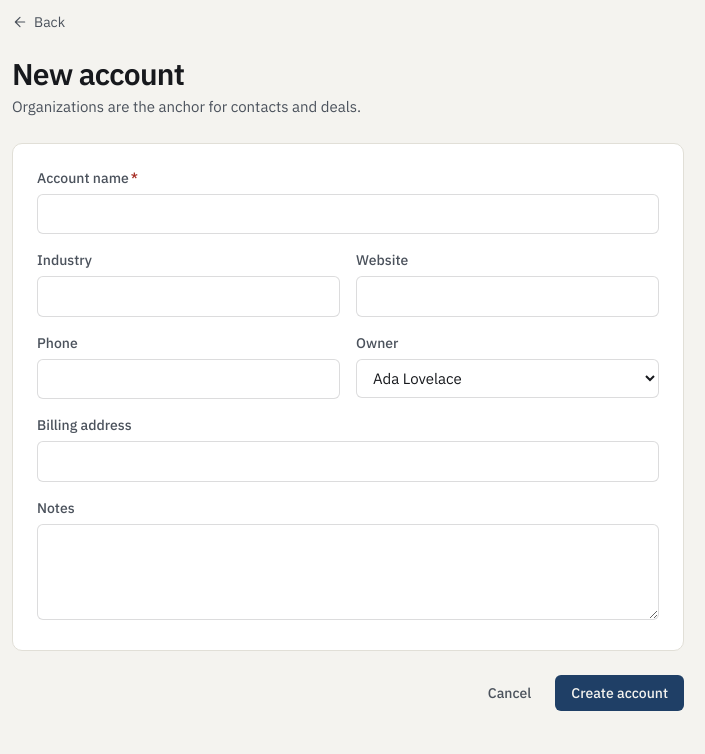
AccountFormPage › create mode › clears the field error once a valid name is submitted
Click the button "Create account".
click(620, 692)  # box [555, 674, 684, 710]
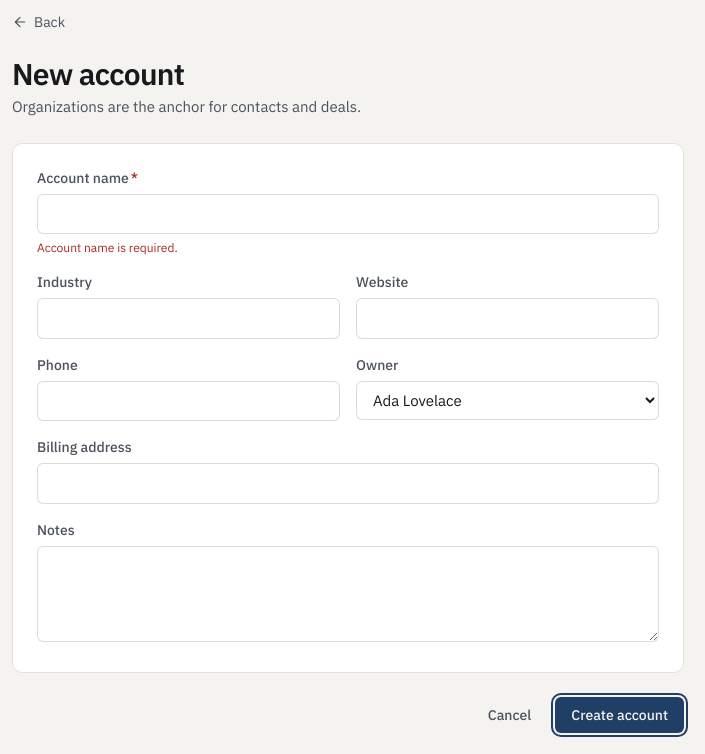
Expected: the text "Account name is required." is shown, [37, 240, 178, 255]
Type "Globex" into the field labelled "Account name*".
click(348, 214); type("Globex")  # box [37, 194, 659, 234]
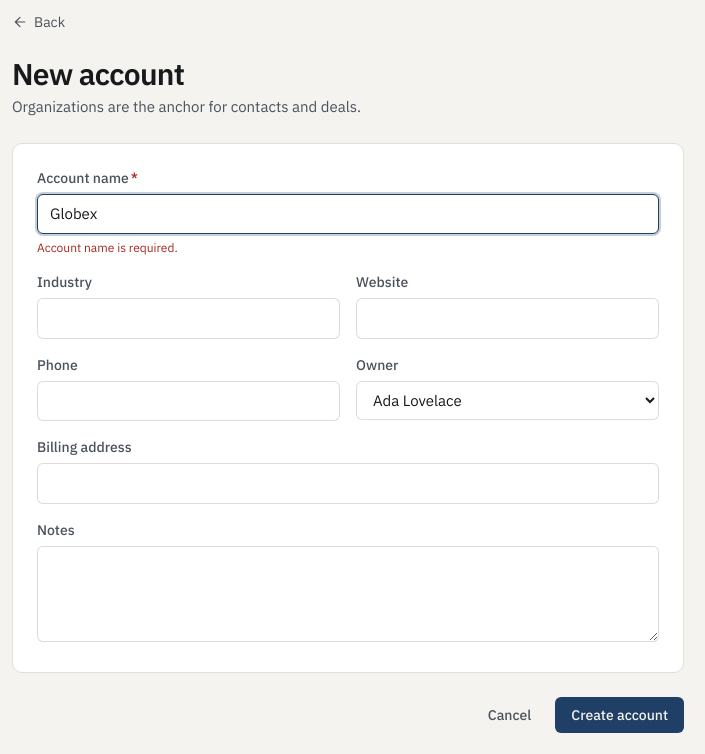
Click the button "Create account".
click(620, 714)  # box [555, 696, 684, 732]
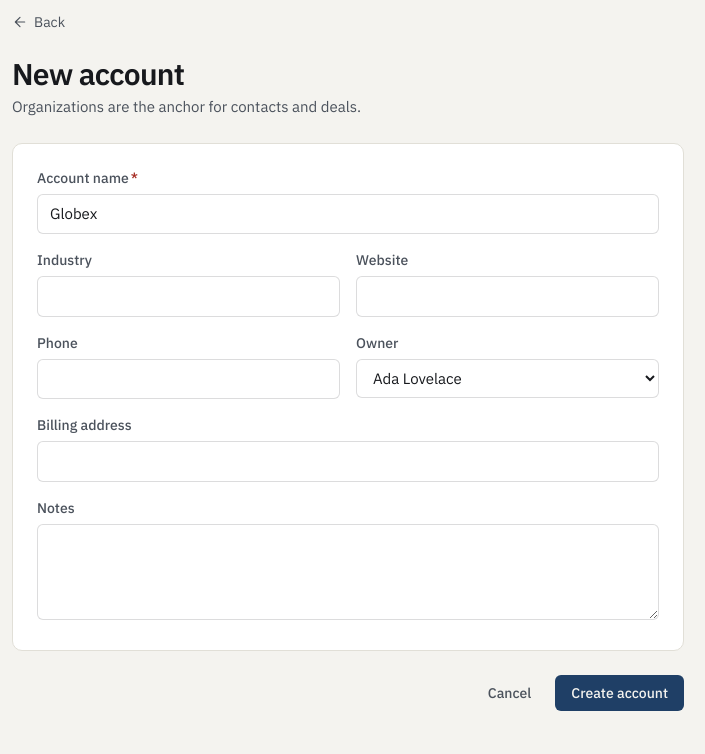
Expected: the text "Account name is required." is gone
